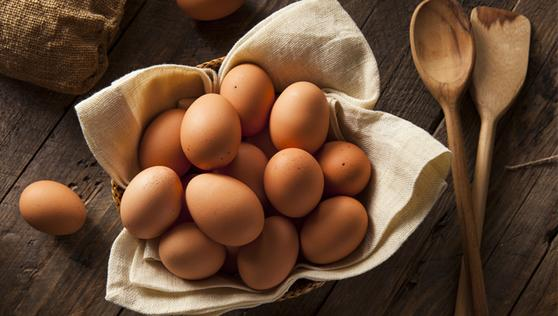egg: (180, 90, 242, 170), (122, 168, 185, 241), (19, 180, 89, 233)
